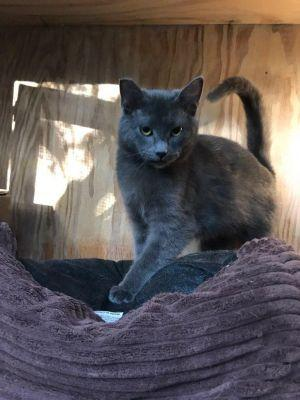rblue: (111, 75, 216, 181)
